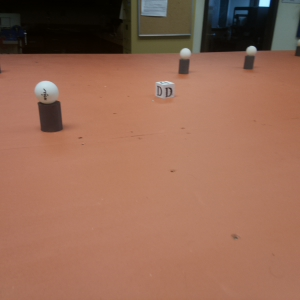blockD: (153, 80, 175, 97)
obstacle: (34, 81, 65, 132), (178, 46, 191, 76), (245, 45, 256, 67)
